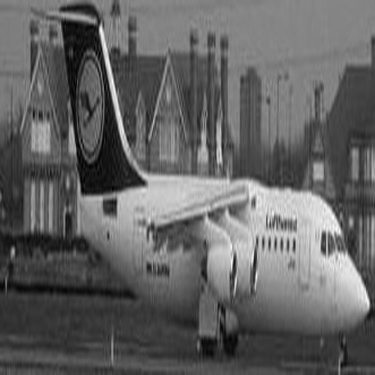airplane: (27, 1, 362, 361)
